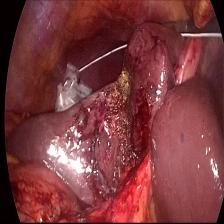Specimen Bag: (53, 40, 126, 114)
